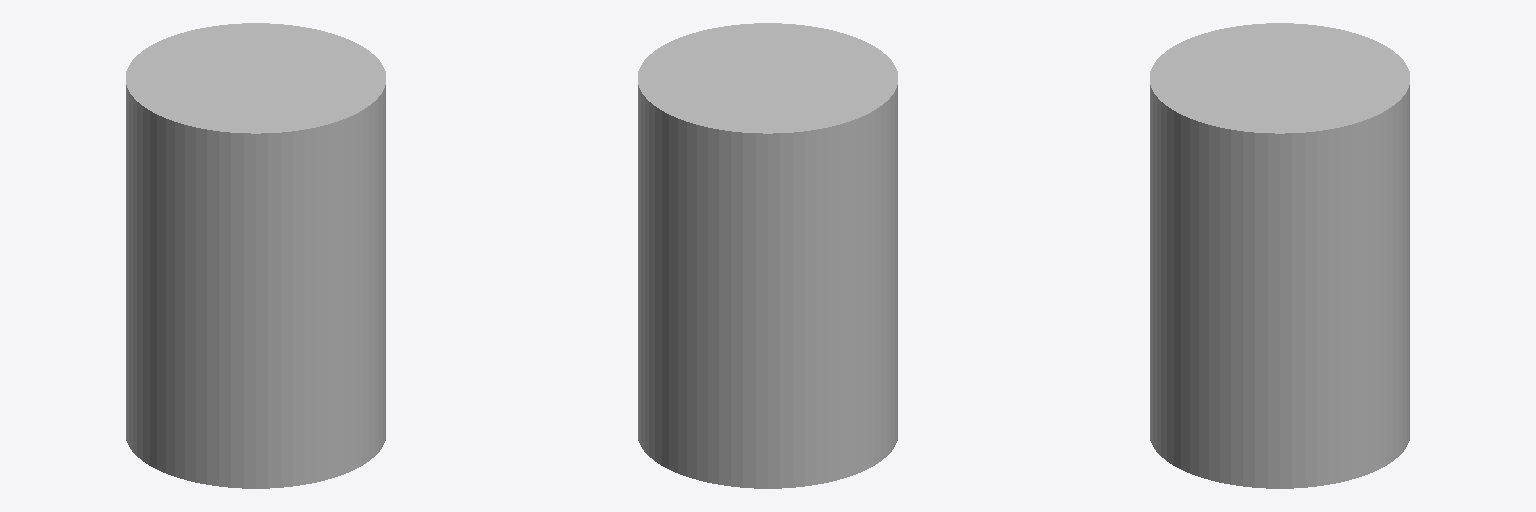
Rendered from silindir.obj.
3 renders of one model, left to right at view 1: azimuth 30°, elevation 25°; view 2: azimuth 150°, elevation 25°; view 3: azimuth 270°, elevation 25°, orthographic.
Parts seen in each view (by area): view 1: Mesh1 Model; view 2: Mesh1 Model; view 3: Mesh1 Model.
Boxes of the visible parts, x1,y1,x2,y2 form: Mesh1 Model: [126, 23, 385, 488]; Mesh1 Model: [638, 23, 897, 488]; Mesh1 Model: [1150, 23, 1409, 488].
Bounding box in the file's own units: 40 × 60 × 39.95.